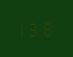eight: (43, 19, 54, 36)
one: (18, 20, 29, 37)
three: (31, 20, 42, 36)
